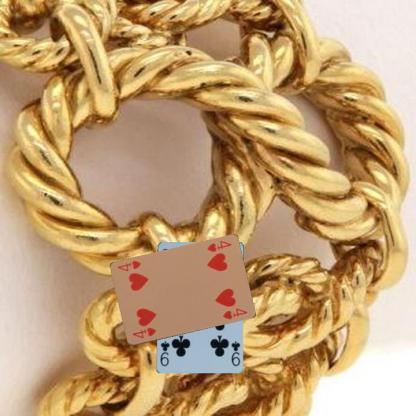4h: (204, 238, 232, 254), (130, 325, 157, 340)
9c: (229, 338, 241, 367)
